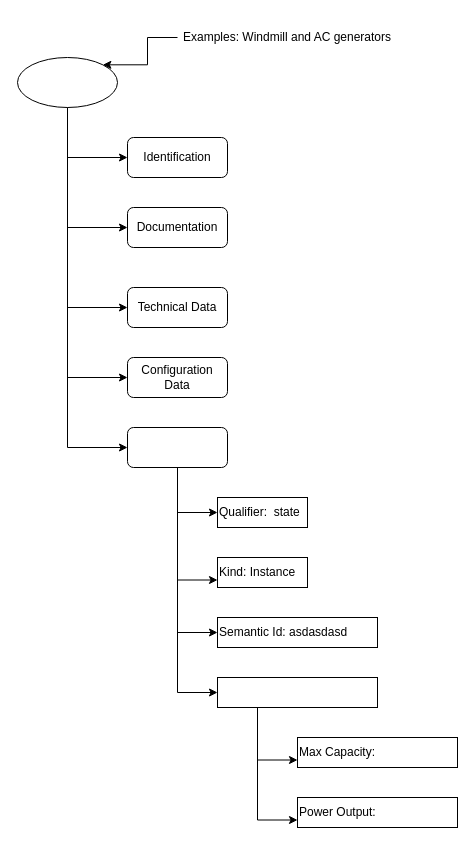
This 475x845 diagram has some shape labels left out. The shapes that lost their labels are listed below. From the top down, each one's centre as x and y in pixels, then its label:
the point at 67,82: Generators
the point at 177,447: Operation Data
the point at 297,692: SubModelElements:
